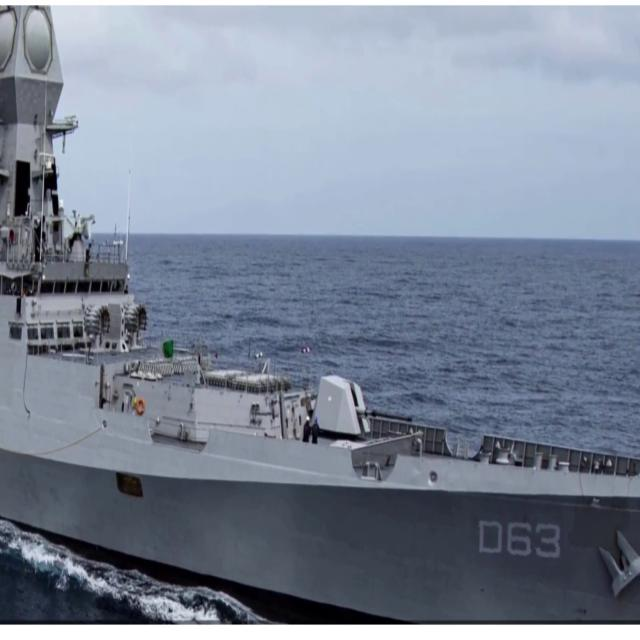OCR: (474, 513, 564, 576)
